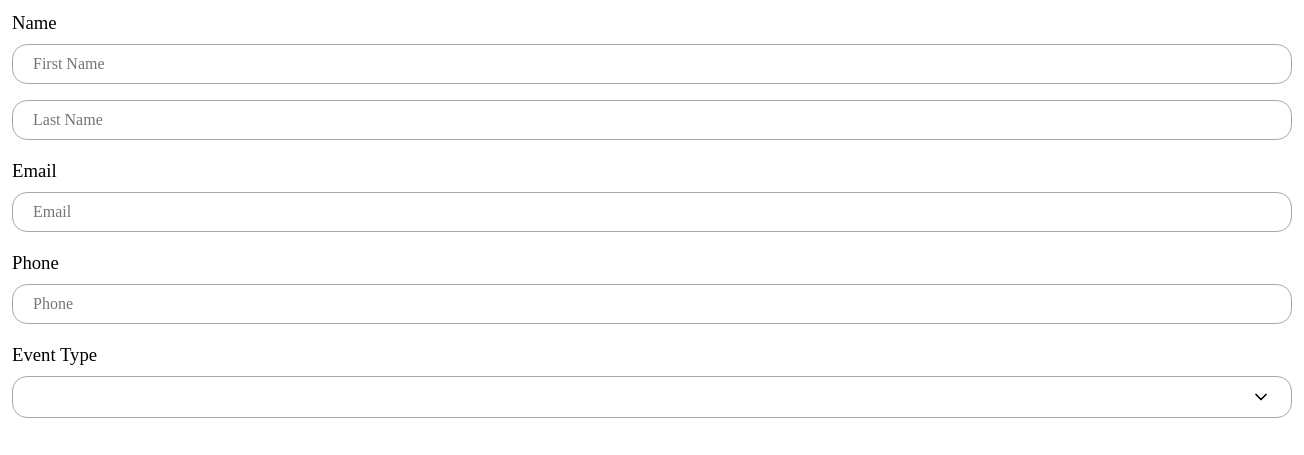
Test: Information step — field validation › Email › shows a pattern error for invalid email: no-at-sign
Type "no-at-sign" into the field with placeholder "Email". click: [652, 212]
box: x1=12 y1=192 x2=1292 y2=232
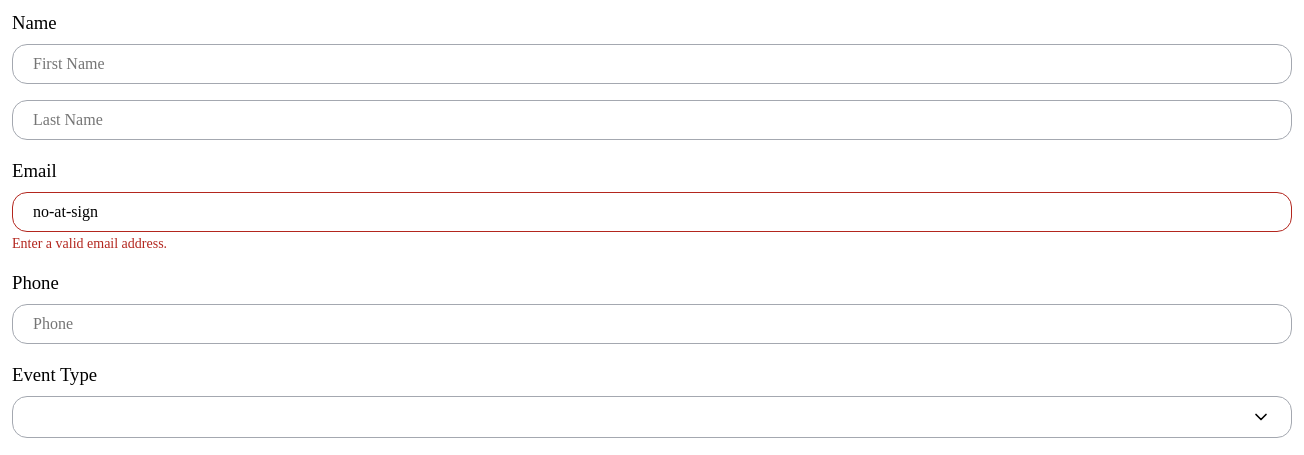
Expected: the text "Enter a valid email address." is shown, x1=12 y1=236 x2=167 y2=251
